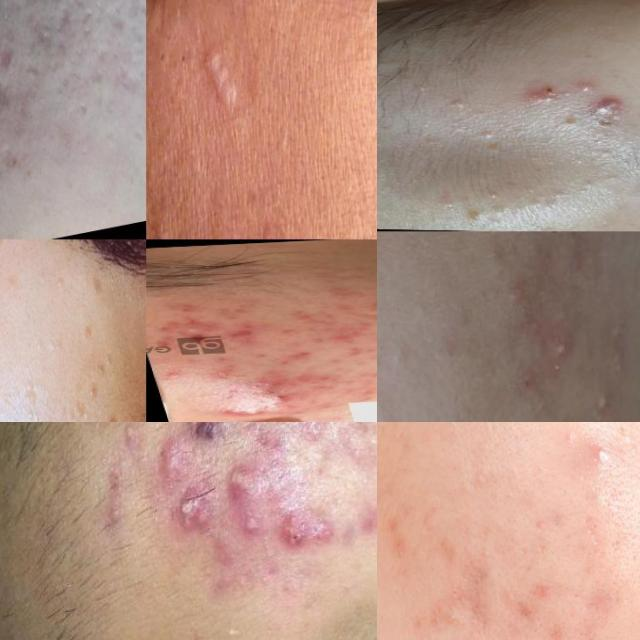acne_scars: (26, 5, 54, 58), (281, 344, 336, 362), (105, 0, 127, 39), (52, 0, 76, 34), (0, 82, 17, 122), (221, 327, 262, 339), (0, 45, 15, 73)
comedone: (594, 305, 640, 360), (486, 274, 533, 318), (377, 336, 415, 378), (579, 386, 621, 422), (146, 32, 171, 83), (544, 334, 574, 370), (172, 28, 193, 75), (542, 299, 573, 328), (452, 207, 488, 225), (40, 327, 59, 358), (590, 144, 620, 162), (516, 198, 548, 214), (441, 94, 471, 110), (48, 272, 67, 296), (486, 202, 514, 218), (471, 126, 501, 140), (556, 114, 586, 128), (439, 192, 462, 210), (545, 186, 568, 202), (419, 135, 446, 148), (406, 76, 427, 91), (481, 144, 507, 156), (484, 189, 506, 202), (518, 184, 540, 196), (52, 414, 64, 422)
flat_wart: (197, 34, 248, 128), (83, 376, 106, 401), (216, 0, 257, 11)
papule: (269, 306, 340, 331), (322, 321, 377, 347), (193, 359, 250, 383), (520, 84, 567, 107), (261, 389, 308, 402)
pustule: (232, 500, 274, 554), (98, 422, 148, 466), (570, 78, 602, 96)
sebo-crystan-conglo: (150, 472, 222, 561), (274, 500, 352, 573), (225, 452, 278, 511), (178, 422, 242, 455), (583, 94, 629, 125), (167, 313, 224, 338), (215, 403, 270, 419)
